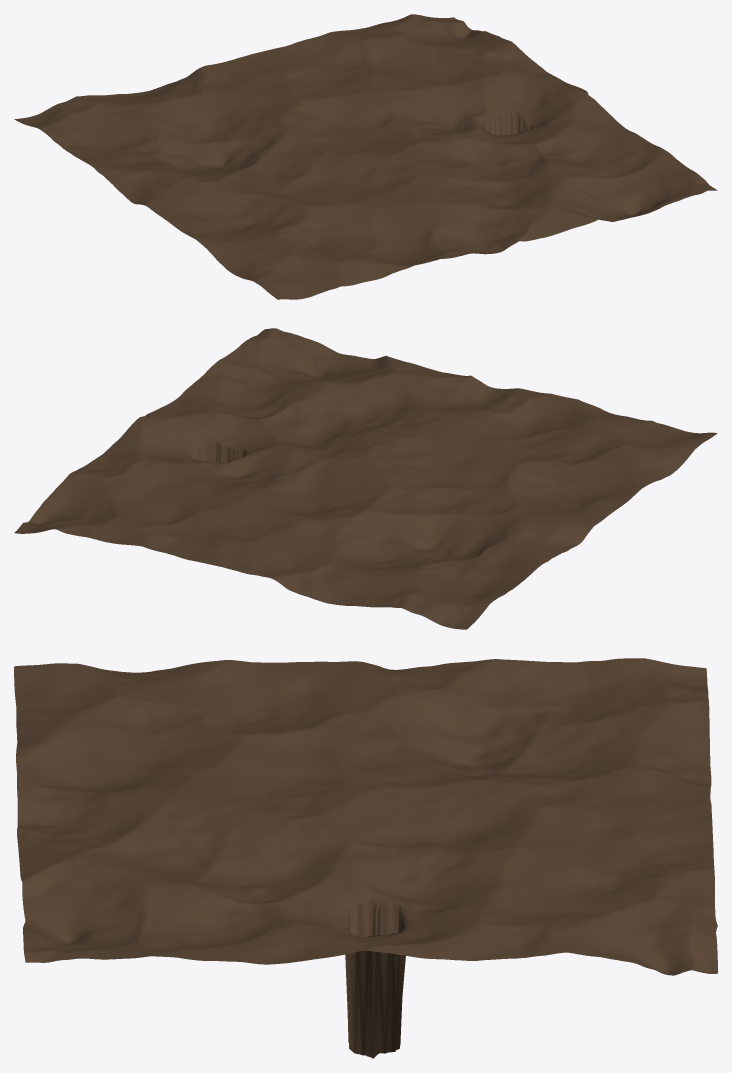
File: ground2.glb
3 views of the same model, one above another, from view 1: azimuth 30°, elevation 25°; view 2: azimuth 150°, elevation 25°; view 3: azimuth 270°, elevation 25° (orthographic). The views are drawn at different scales.
Visible parts, largest first — view 1: Plane-003; view 2: Plane-003; view 3: Plane-003.
Boxes of the visible parts, x1,y1,x2,y2 form: Plane-003: (14,14,717,299); Plane-003: (14,328,717,629); Plane-003: (14,658,717,1058).
Size of the model in its own units: 14.56 by 3.67 by 14.53.
